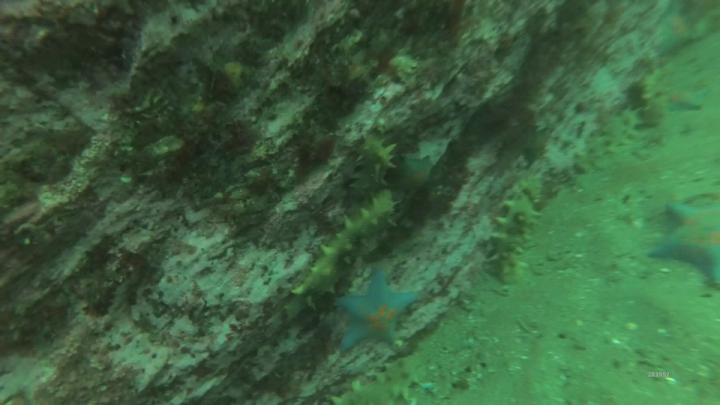holothurian: (294, 185, 397, 301), (574, 104, 641, 176), (493, 180, 537, 286), (356, 132, 400, 183)
starfish: (335, 263, 422, 353), (655, 198, 720, 291), (667, 85, 715, 117), (402, 153, 436, 193), (656, 11, 695, 42)
